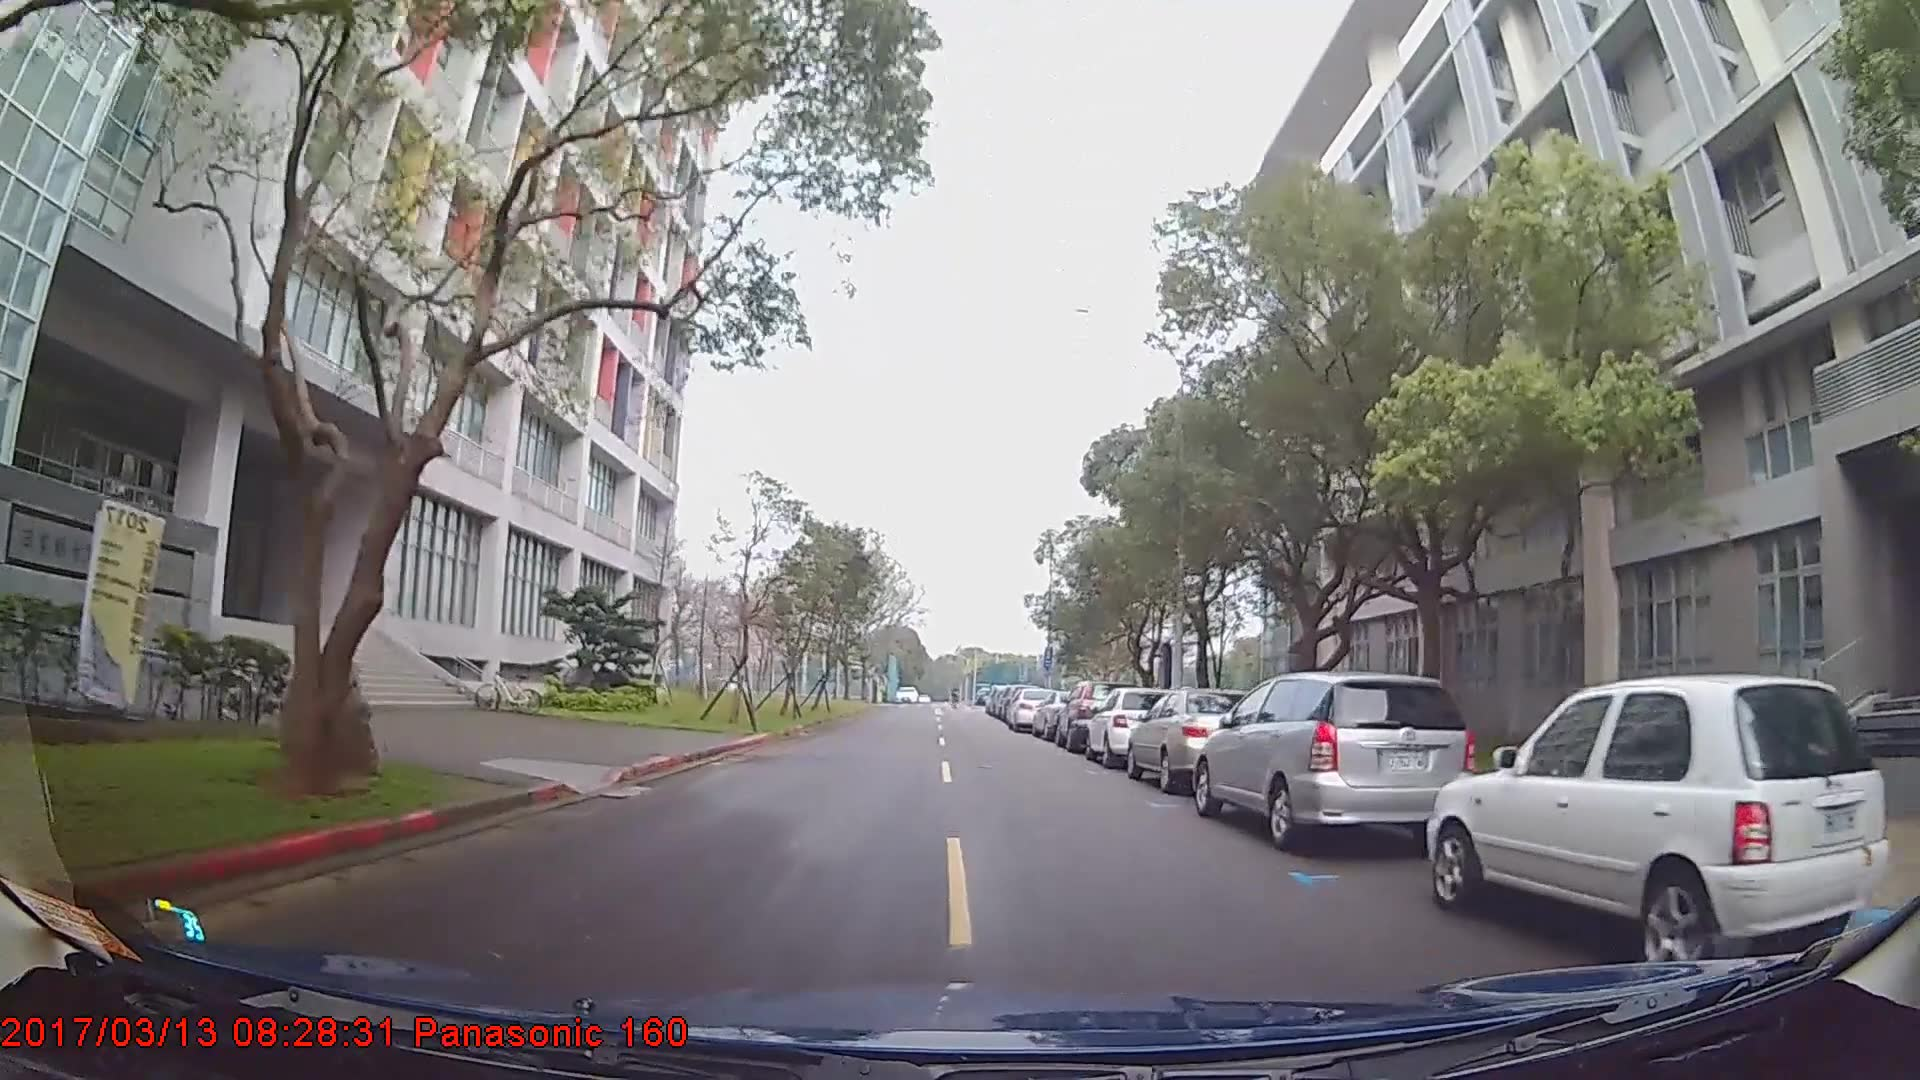vehicle: (1425, 673, 1892, 967), (1191, 670, 1474, 847), (1125, 684, 1274, 789), (1084, 684, 1174, 766), (1002, 684, 1060, 733)
